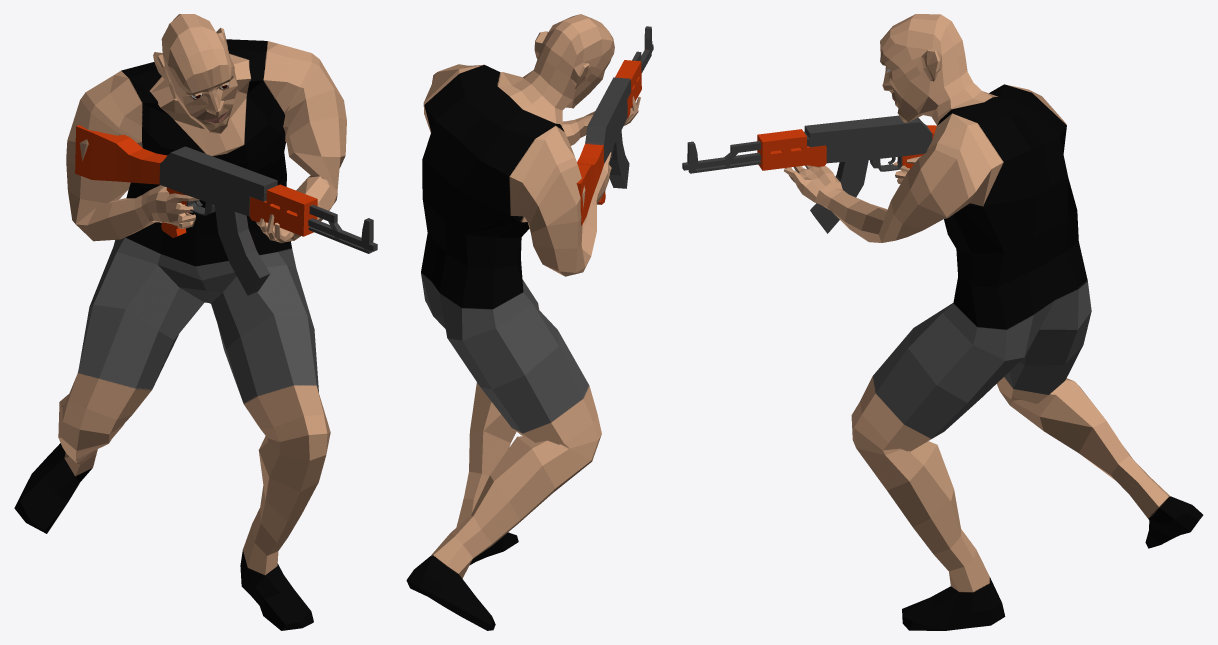
File: PlayerWalk(13).obj
3 renders of one model, left to right at view 1: azimuth 30°, elevation 25°; view 2: azimuth 150°, elevation 25°; view 3: azimuth 270°, elevation 25°, orthographic. The views are drawn at different scales.
Parts seen in each view (by area): view 1: Plane002, Object001; view 2: Plane002, Object001; view 3: Plane002, Object001.
Boxes of the visible parts, left/top/right/bottom form: Plane002: left=14, top=14, right=346, bottom=630; Object001: left=75, top=125, right=377, bottom=295; Plane002: left=406, top=14, right=640, bottom=630; Object001: left=576, top=26, right=653, bottom=225; Plane002: left=784, top=14, right=1203, bottom=630; Object001: left=682, top=115, right=936, bottom=233.
Size of the model in its own units: 608 by 1563 by 1306.
